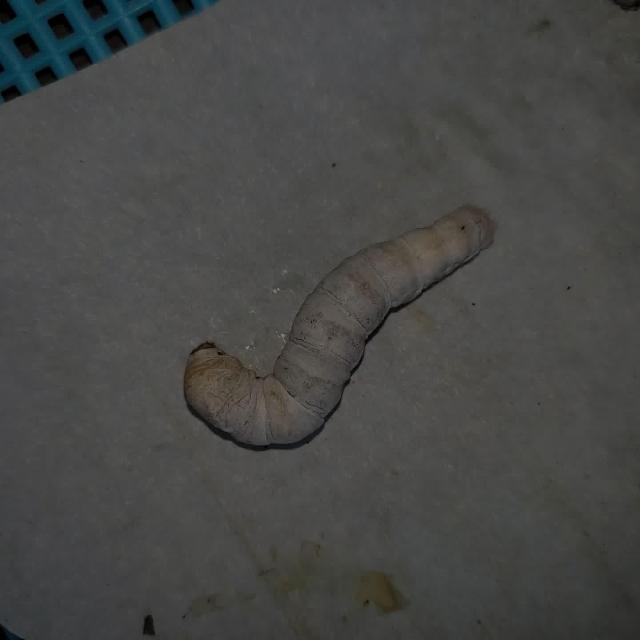Grasserie: (166, 188, 539, 476)
